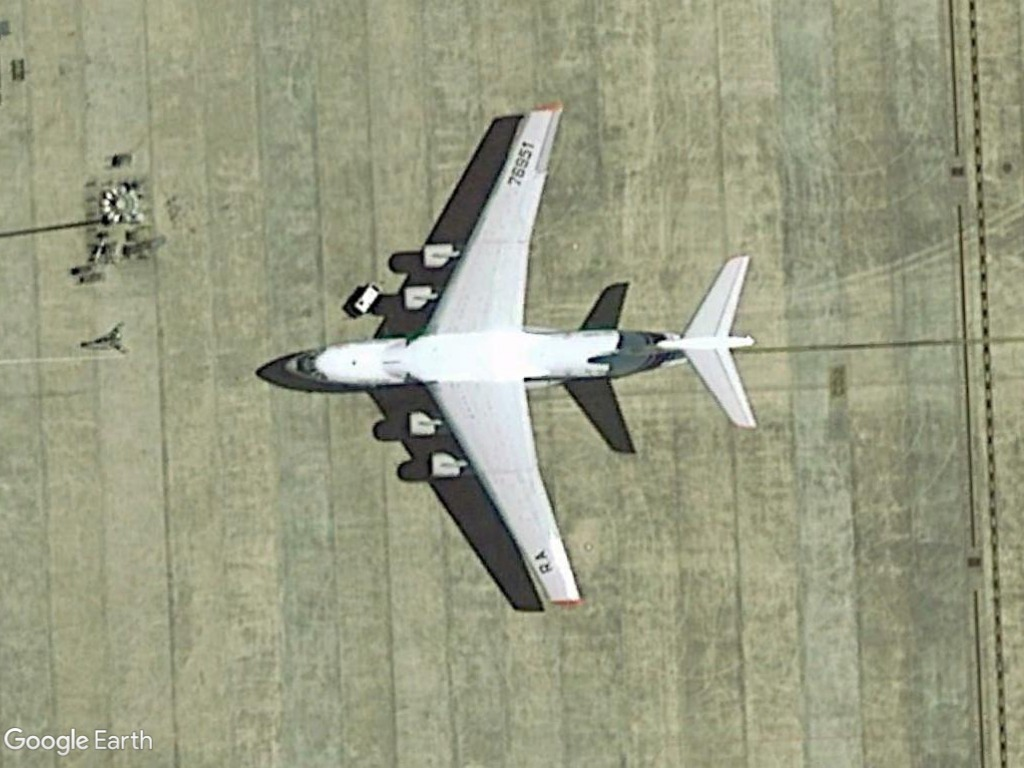airliner: (277, 99, 772, 610)
